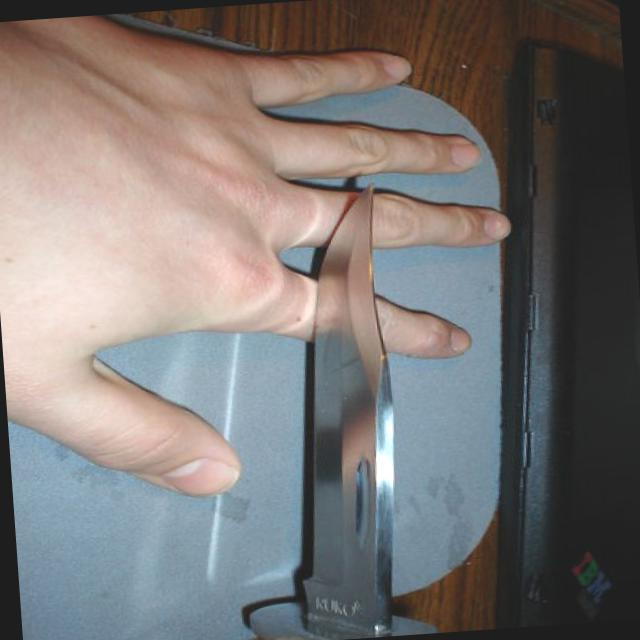knife: (188, 151, 456, 639)
